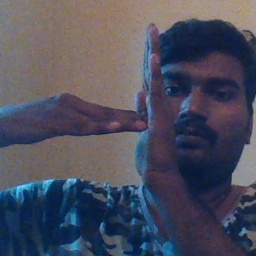Z: (70, 20, 186, 190)
